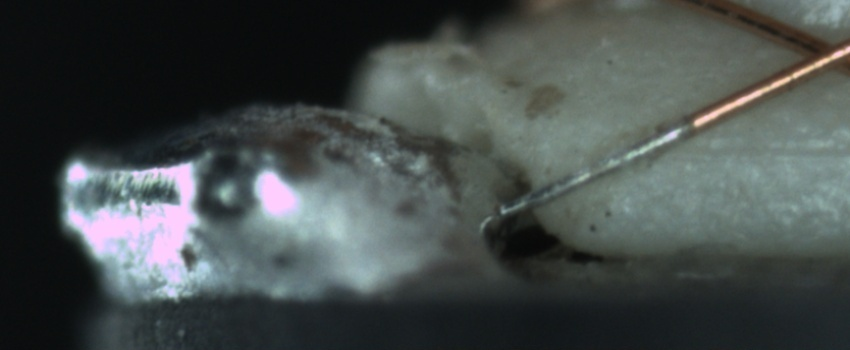CL: (776, 19, 849, 84)
DL: (672, 116, 848, 184)
TS: (493, 116, 689, 221)
